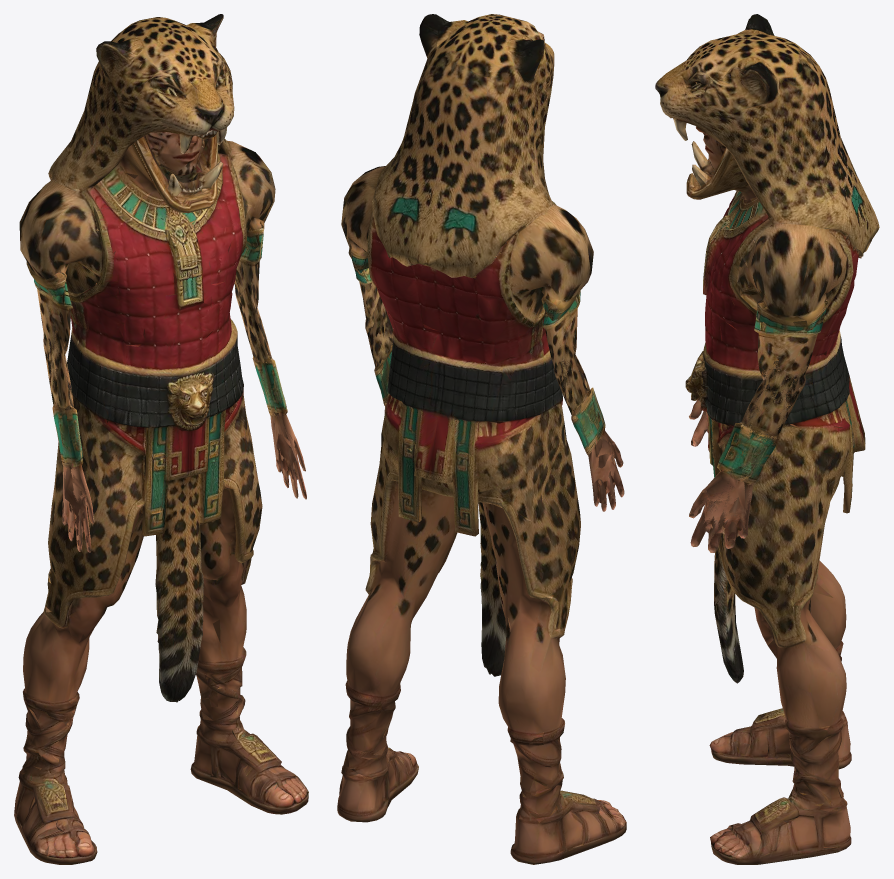
The model's file is human-w-n.glb.
The picture shows the model from 3 angles, left to right: view 1: azimuth 30°, elevation 25°; view 2: azimuth 150°, elevation 25°; view 3: azimuth 270°, elevation 25°; orthographic projection. The views are drawn at different scales.
Parts seen in each view (by area): view 1: Mesh_0; view 2: Mesh_0; view 3: Mesh_0.
Part boxes in pixels (box(x1,y1,x2,y2)): Mesh_0: box(14, 14, 308, 864); Mesh_0: box(337, 14, 626, 864); Mesh_0: box(655, 14, 879, 864).
Size of the model in its own units: 0.6352 by 1.8 by 0.4783.
1 material, 1 textured.
